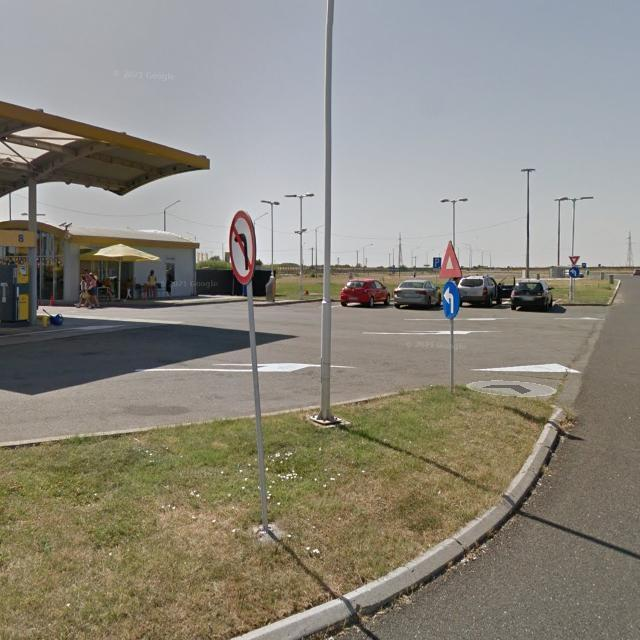prio_give_way: (438, 242, 462, 278), (568, 256, 581, 266)
